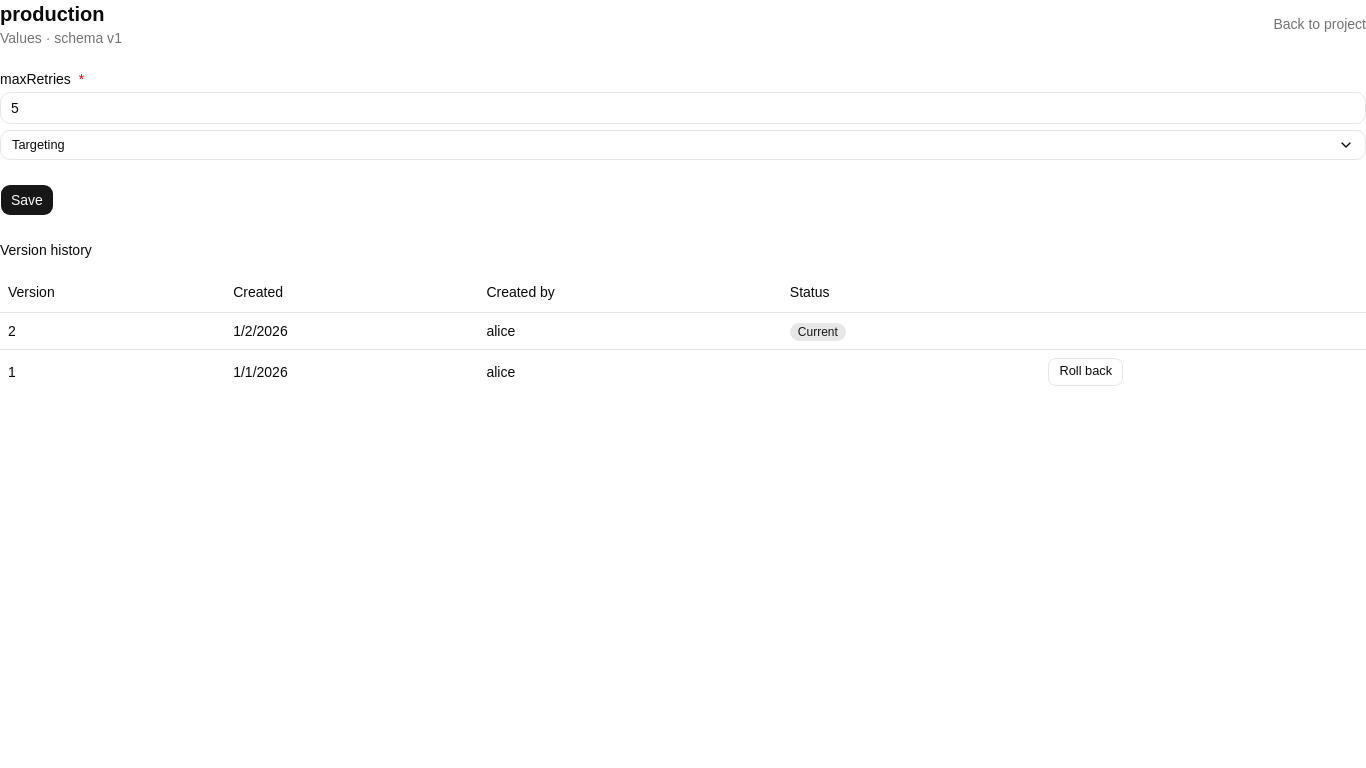
it: EnvironmentPage › shows the rolled-back value, not a stale edit, after rolling back a touched field
// Touch the field without saving, so `edits` is non-empty going into the rollback.
Replace the text in the number field labelled "maxRetries" with "99" at (683, 108), box [0,92,1365,124]
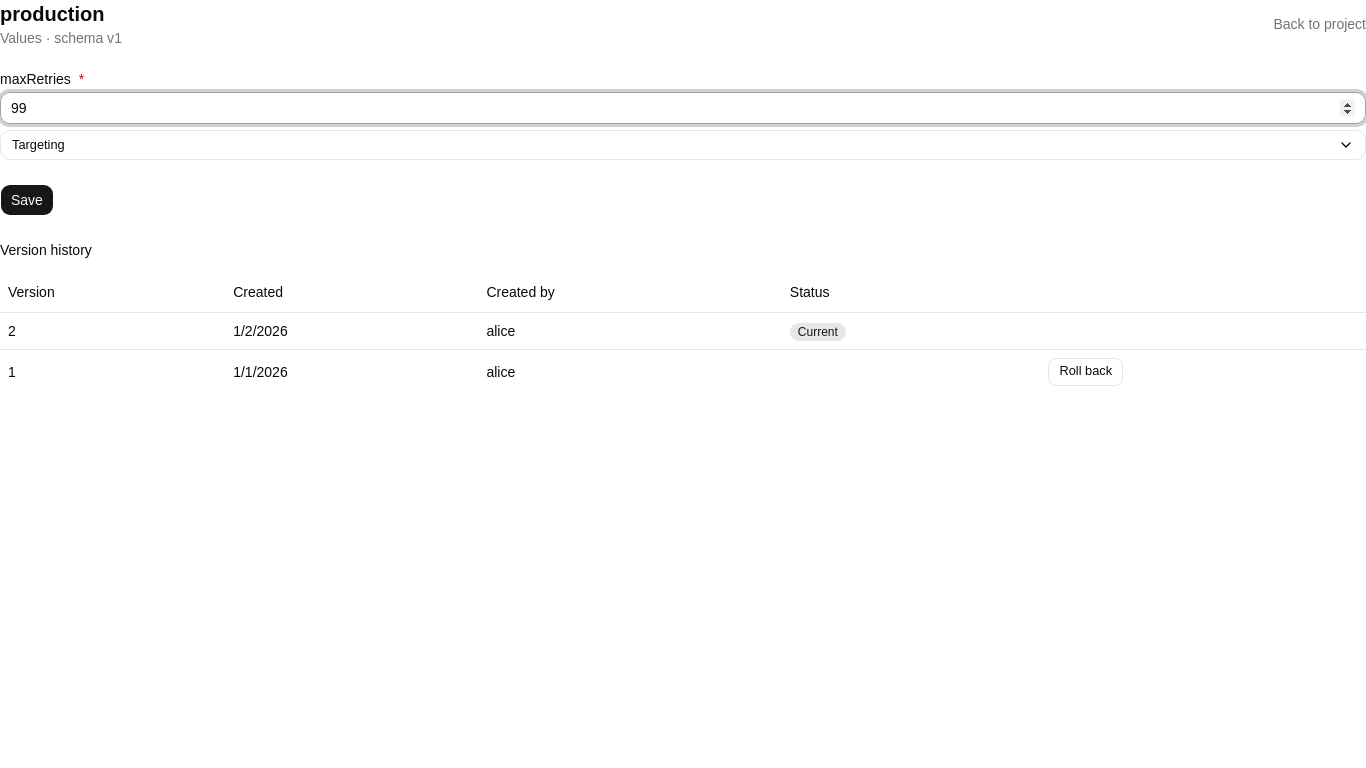
Click the button "Roll back" at (1086, 372), box [1048,358,1123,386]
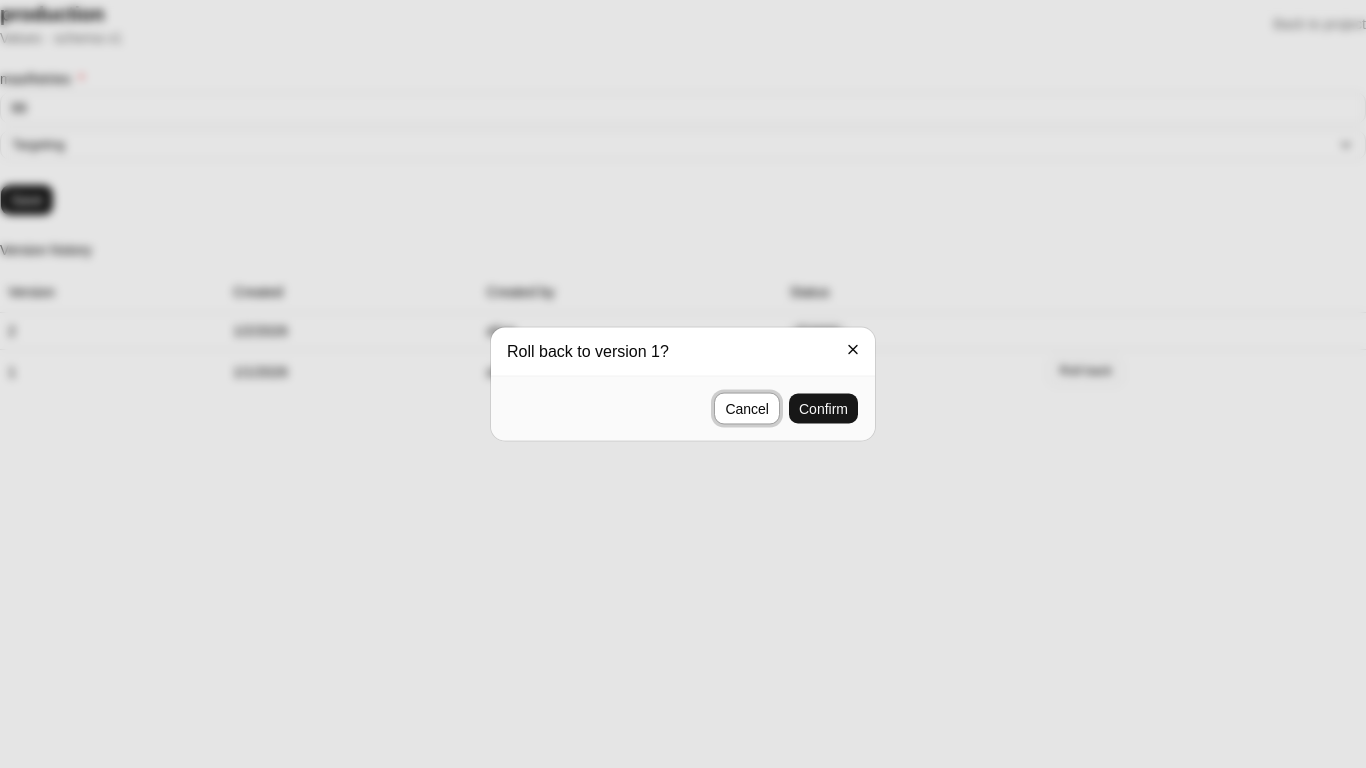
Expected: the heading "Roll back to version 1?" is shown, [507,342,669,360]
Click the button "Confirm" at (824, 408), box [788,392,859,424]
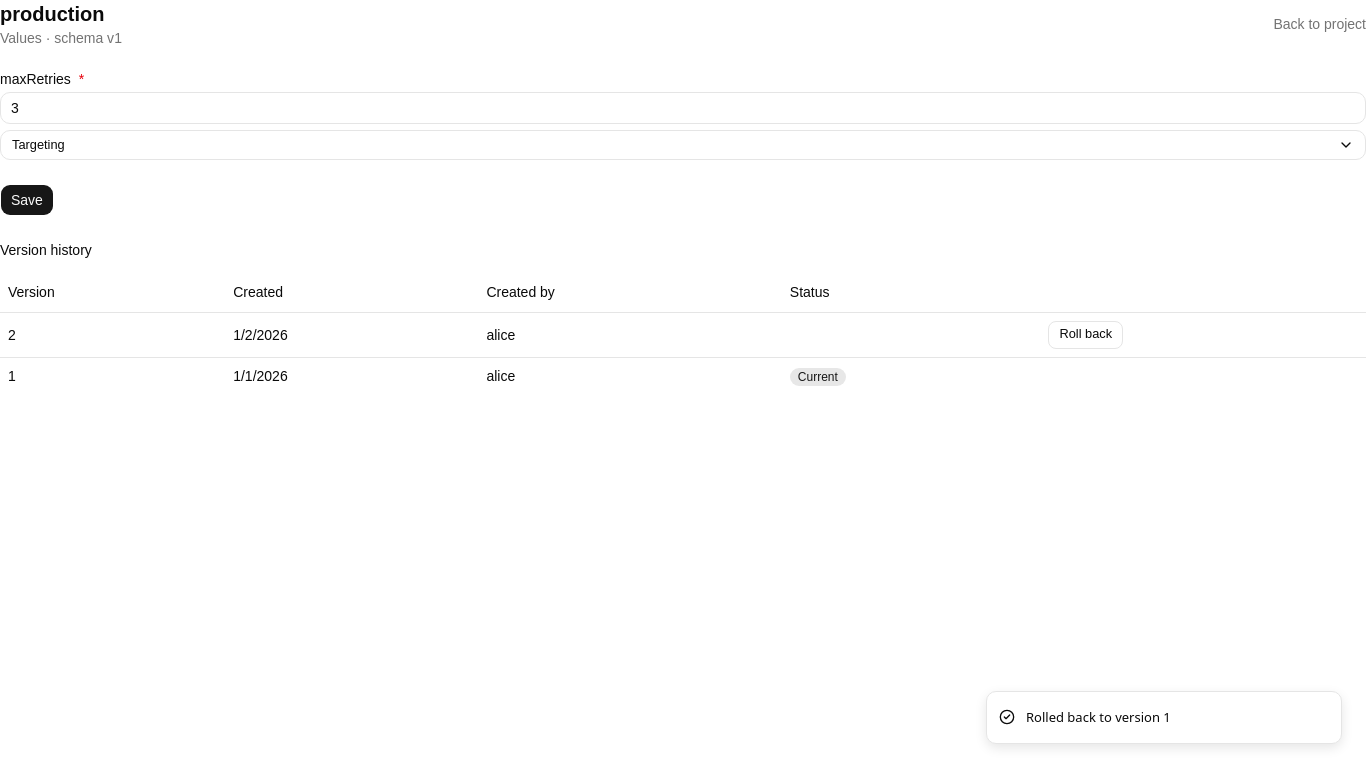
Expected: the number field labelled "maxRetries" holds "3", [0,92,1365,124]
